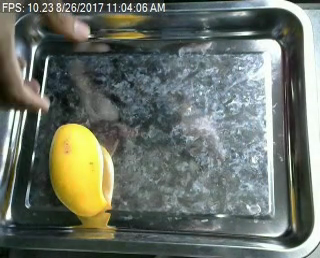Mango: (46, 120, 117, 221)
